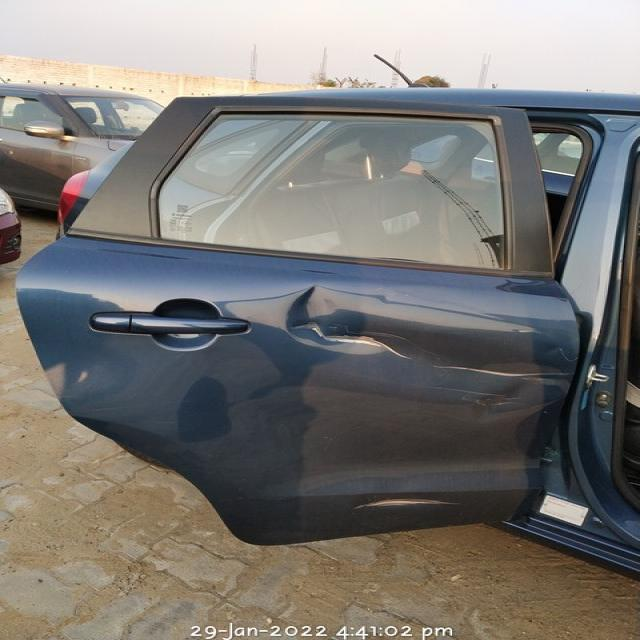damage: (274, 290, 573, 404), (347, 488, 462, 521)
